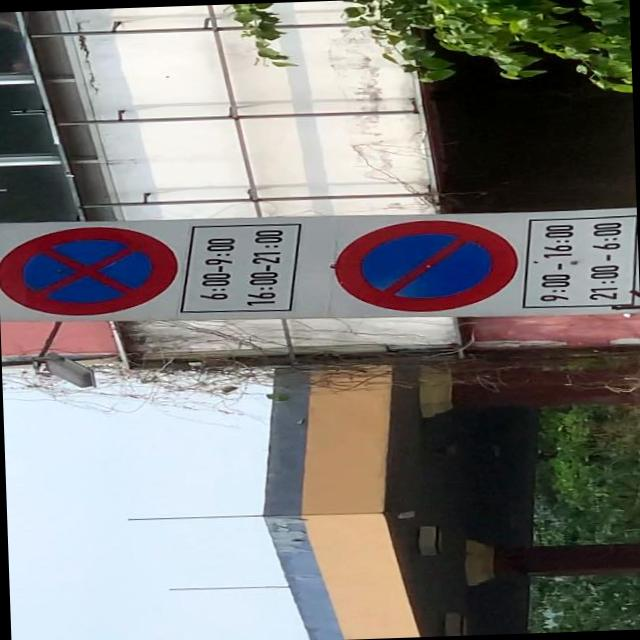P-130: (0, 223, 181, 318)
P-131a: (332, 218, 519, 314)
